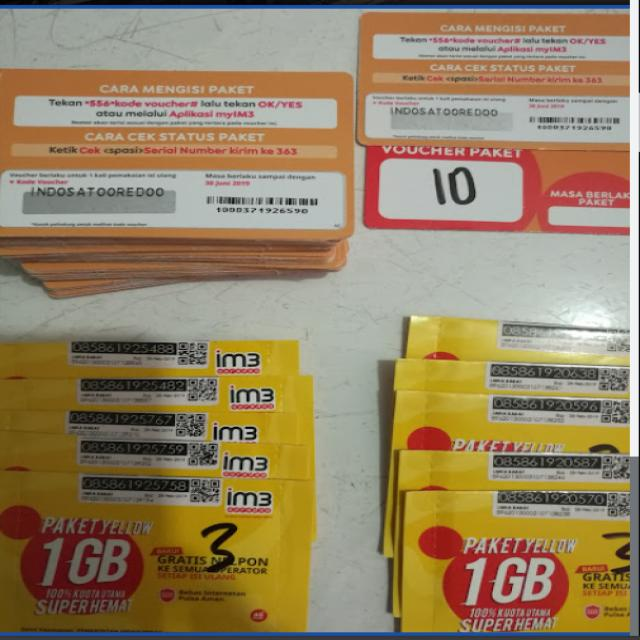im3: (0, 336, 317, 632), (386, 316, 635, 632)
